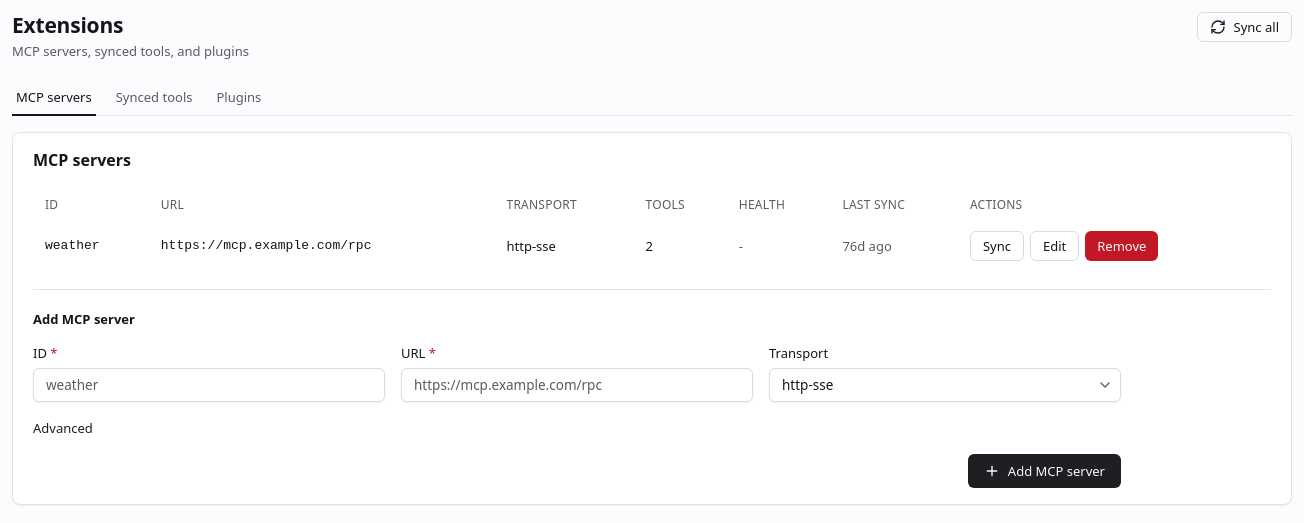
ExtensionsView › shows MCP servers, synced tools with safety badges, and plugins
Expected: the text "weather" is shown, [33,223,149,269]
// Synced tools tab: tool names and per-call safety badges.
Step 1. Click the tab "Synced tools" → (154, 98), box [112,80,196,116]
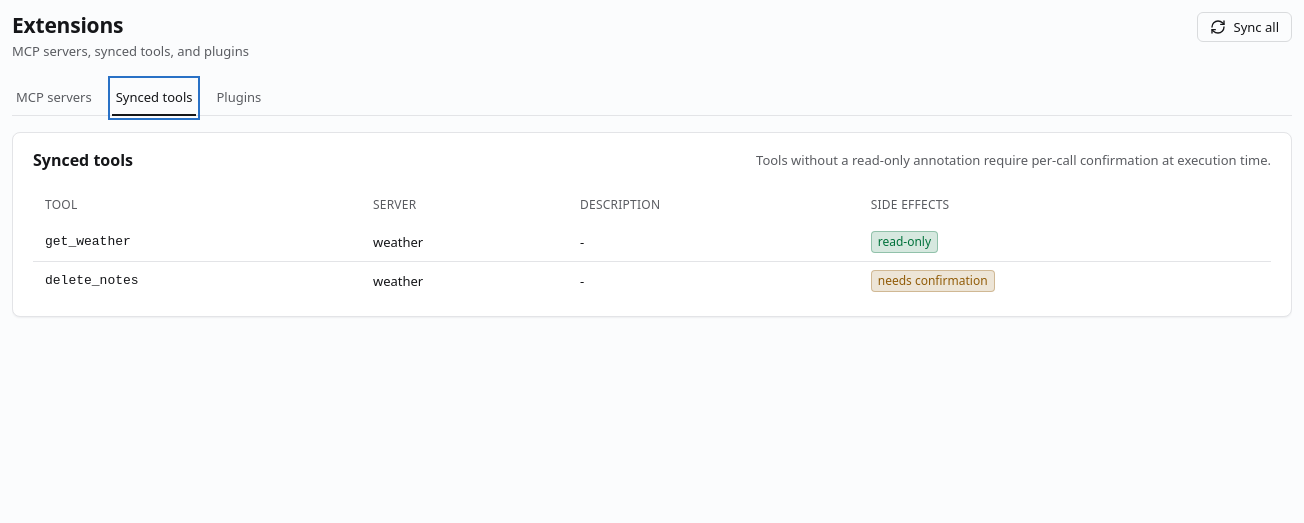
Now the text "get_weather" is shown, box [33,223,361,262]
Now the text "read-only" is shown, box [871,231,938,253]
Now the text "needs confirmation" is shown, box [871,270,995,292]
// Plugins tab: built-in plugin names from GET /api/plugins.
Step 2. Click the tab "Plugins" → (239, 98), box [212,80,265,116]
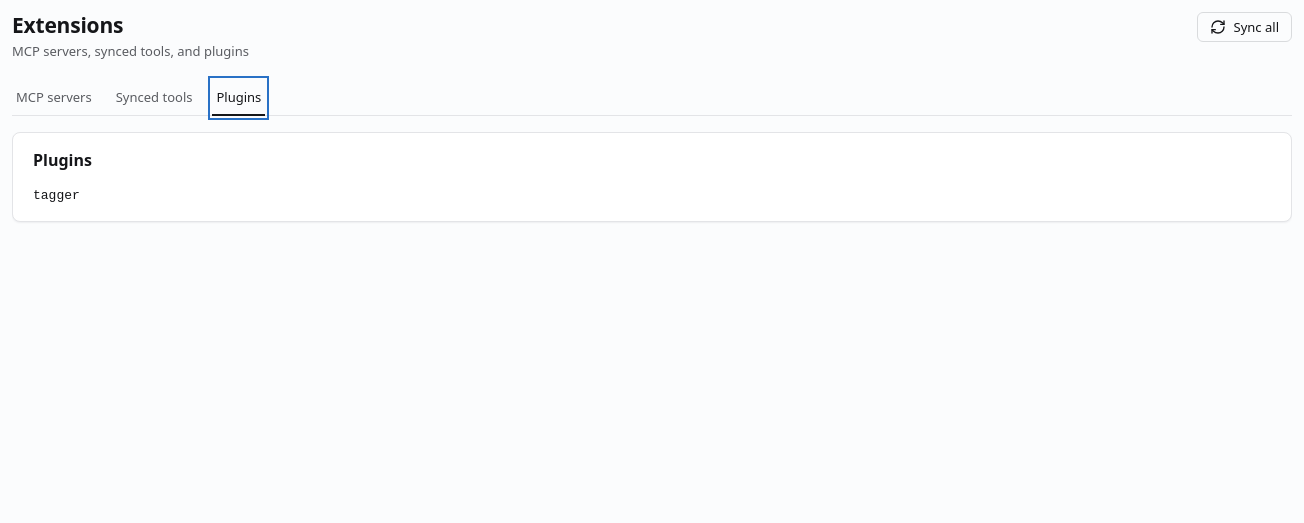
Now the list item "tagger" is shown, box [33,188,80,203]
